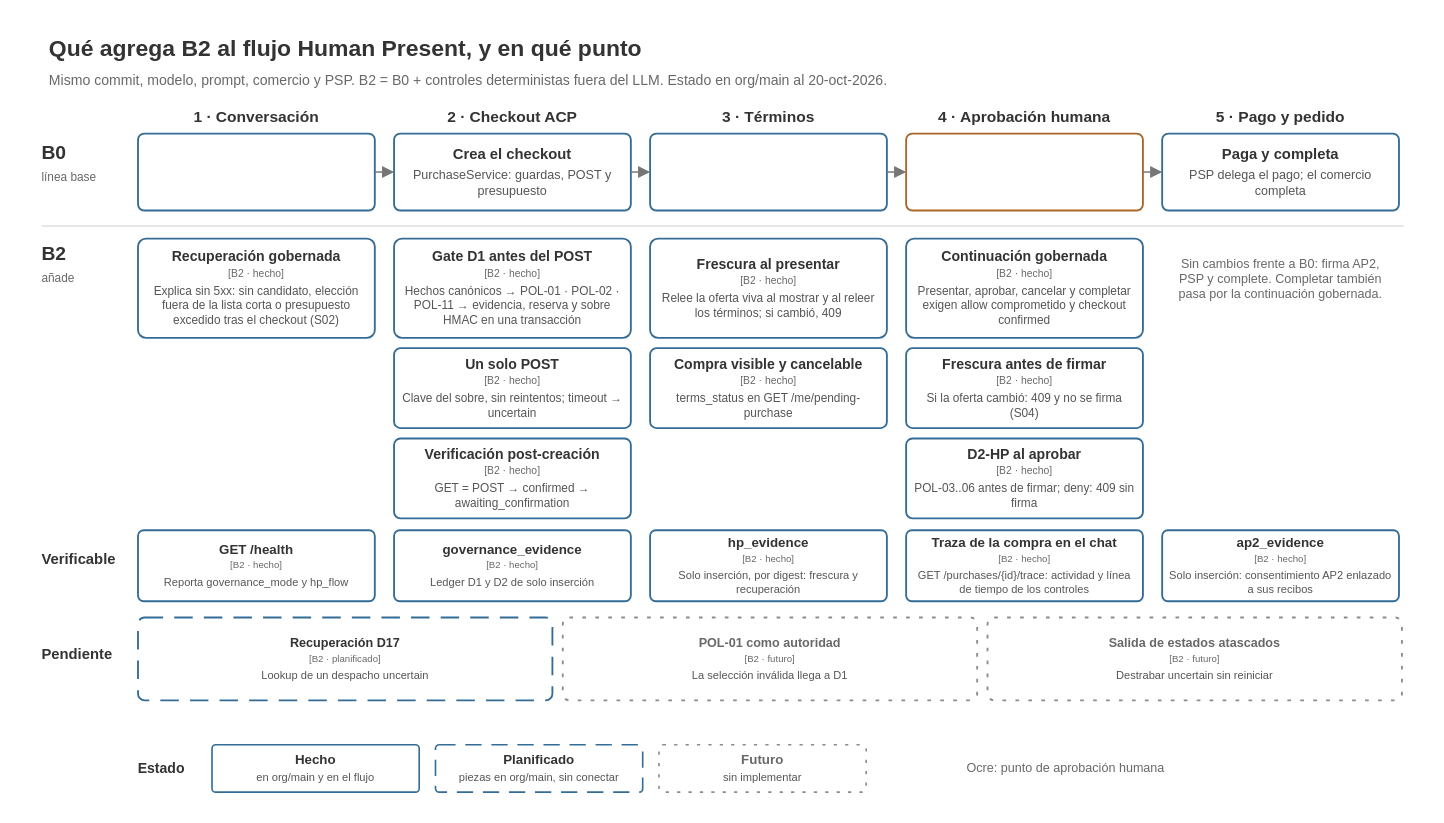
The diagram is 1444 pixels wide and 823 high, and some of its shapes have lost their labels. Here are the shapes that lost their labels. From the top down, the box of each, then its label:
(137, 132, 375, 211): Conversa y propone LangGraph + LLM no confiable; filtros duros
(649, 132, 887, 211): Presenta términos Términos cerrados con huella HMAC
(905, 132, 1144, 211): Aprueba y firma Clic humano; ApprovalService firma AP2
